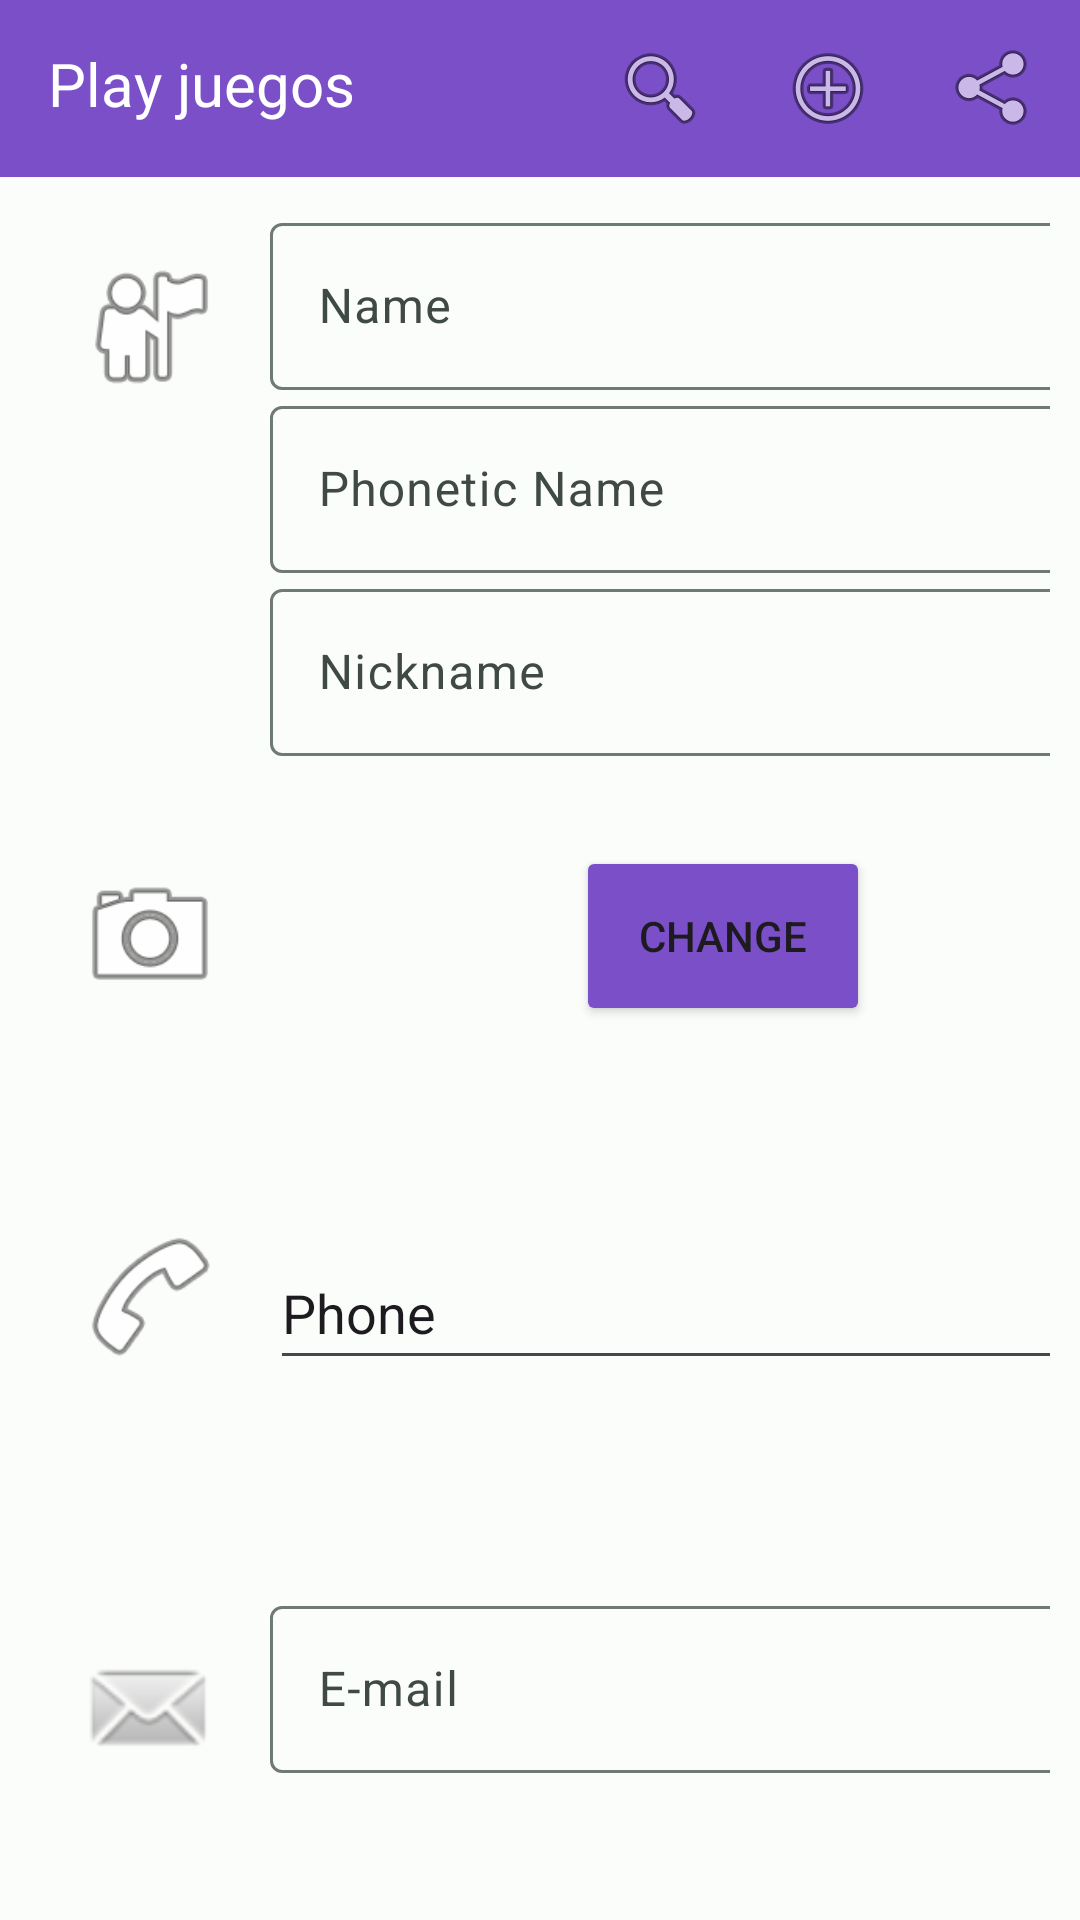

Named icons in this screenshot (1080 x 1920) and their bounding boxes, rect(x1, y1, x2, y2):
add: rect(792, 53, 864, 124)
call: rect(92, 1238, 210, 1356)
camera: rect(92, 887, 208, 980)
myplaces: rect(95, 271, 208, 383)
search: rect(625, 53, 695, 124)
share: rect(955, 50, 1027, 125)
